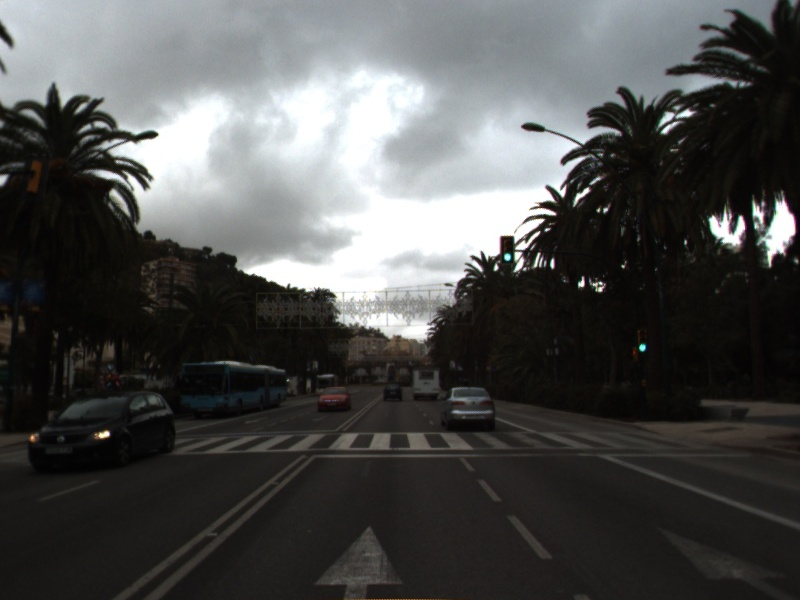STRAIGHT: (652, 523, 798, 600), (310, 521, 408, 600)
